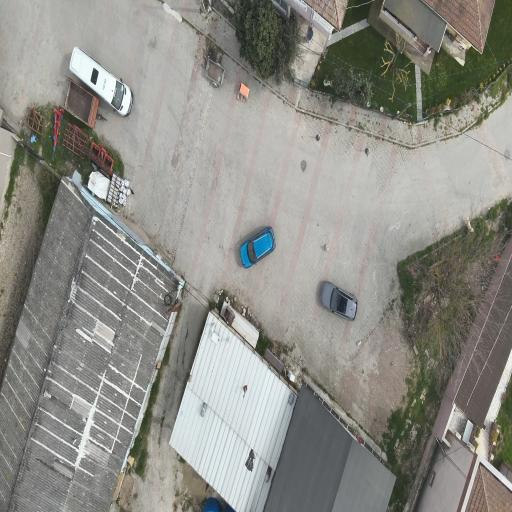car: (70, 46, 133, 115), (240, 227, 275, 267), (321, 282, 357, 319)
